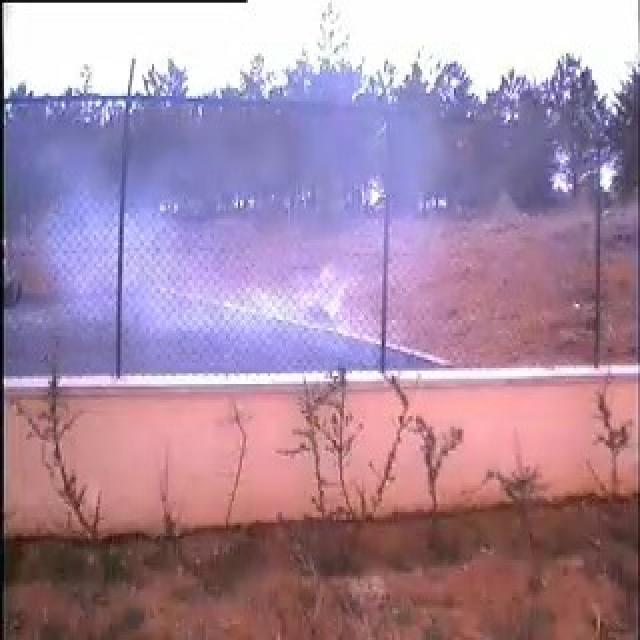smoke: (121, 100, 392, 373)
